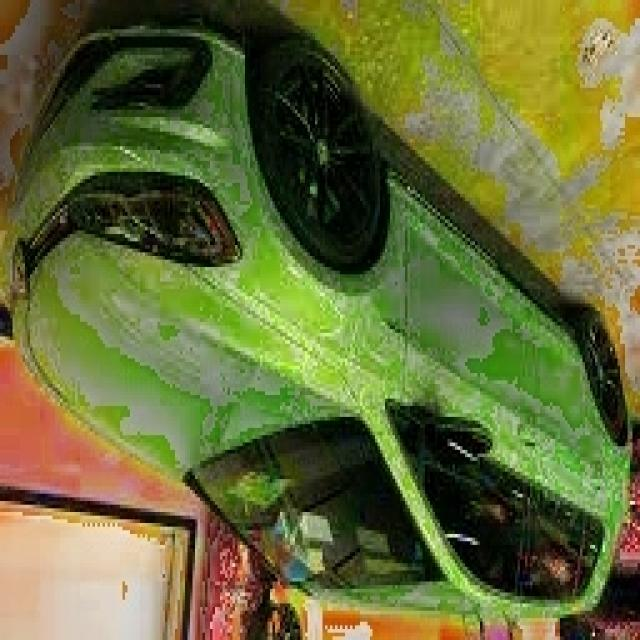green: (0, 0, 620, 626)
